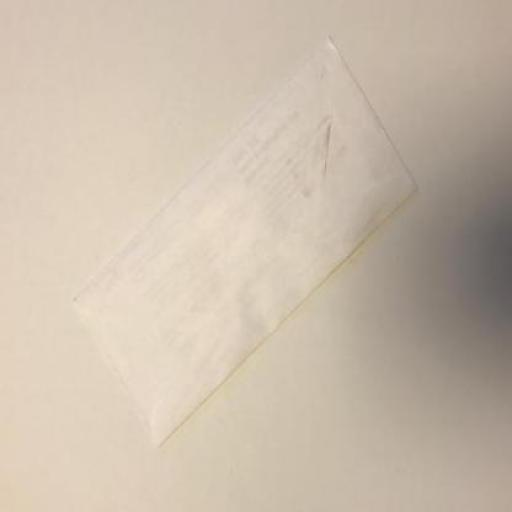paper: (72, 36, 418, 444)
